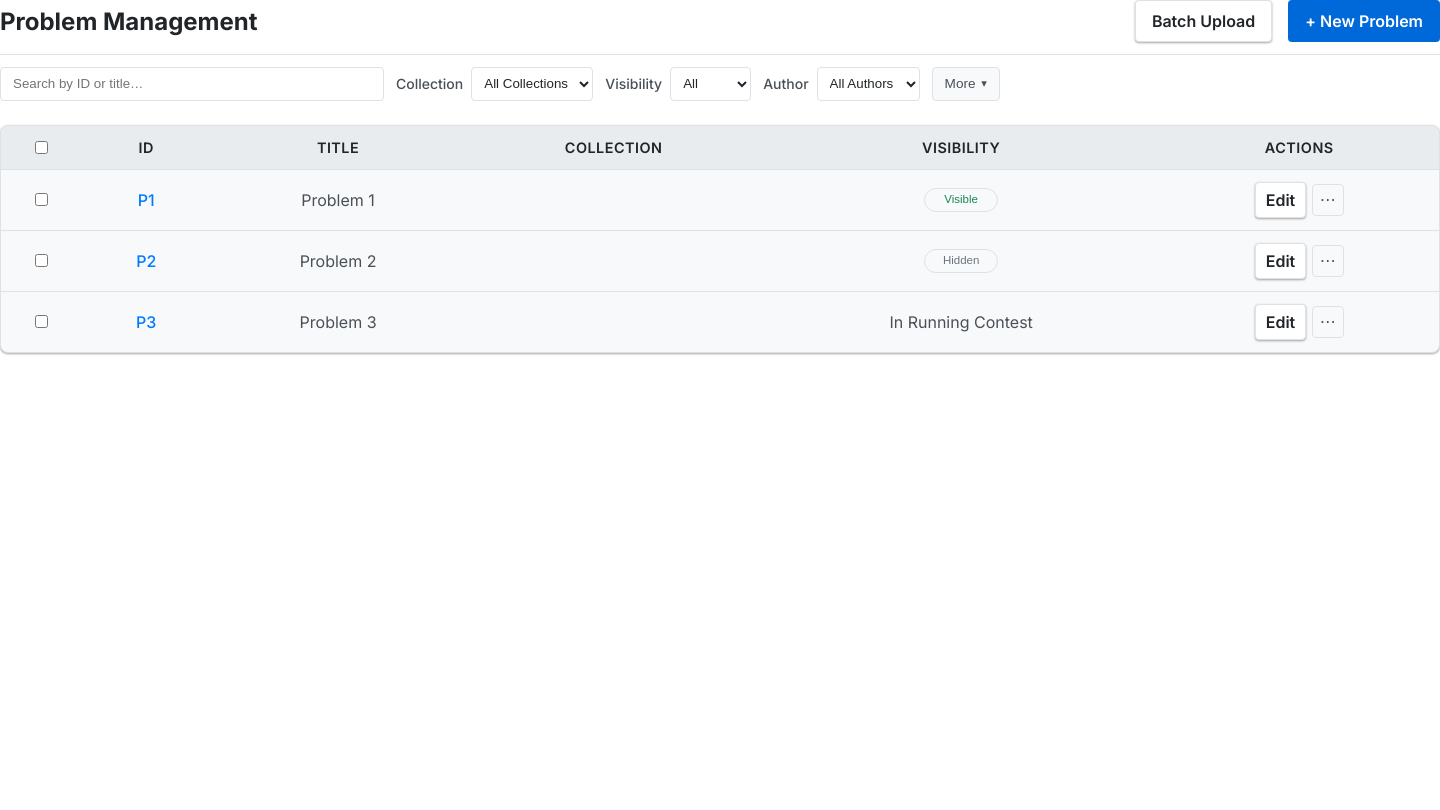
ProblemManagement Component › handles bulk actions (Hide All)
This screenshot has width=1440, height=810.
Expected: the text "Problem 1" is shown, [212,169,465,230]
Step 1. Click the checkbox named "Select problem P1" → x=42, y=199, box [35,193,48,206]
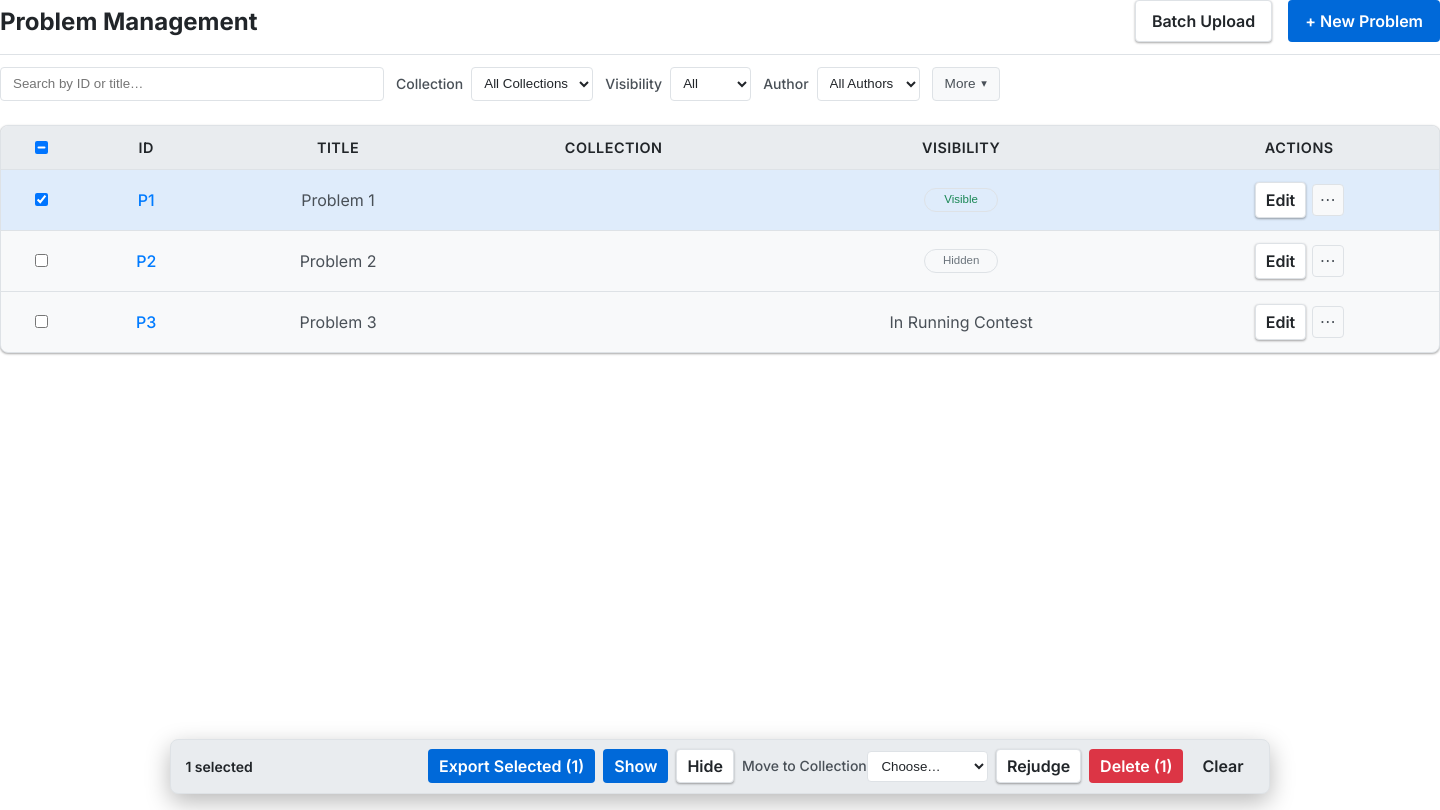
Expected: the text "1 selected" is shown, [185,758,253,775]
Note: Global visibility actions live behind the More menu now.
Step 2. Click the button with aria-label "more global actions" → x=966, y=84, box [932,67,1000,101]
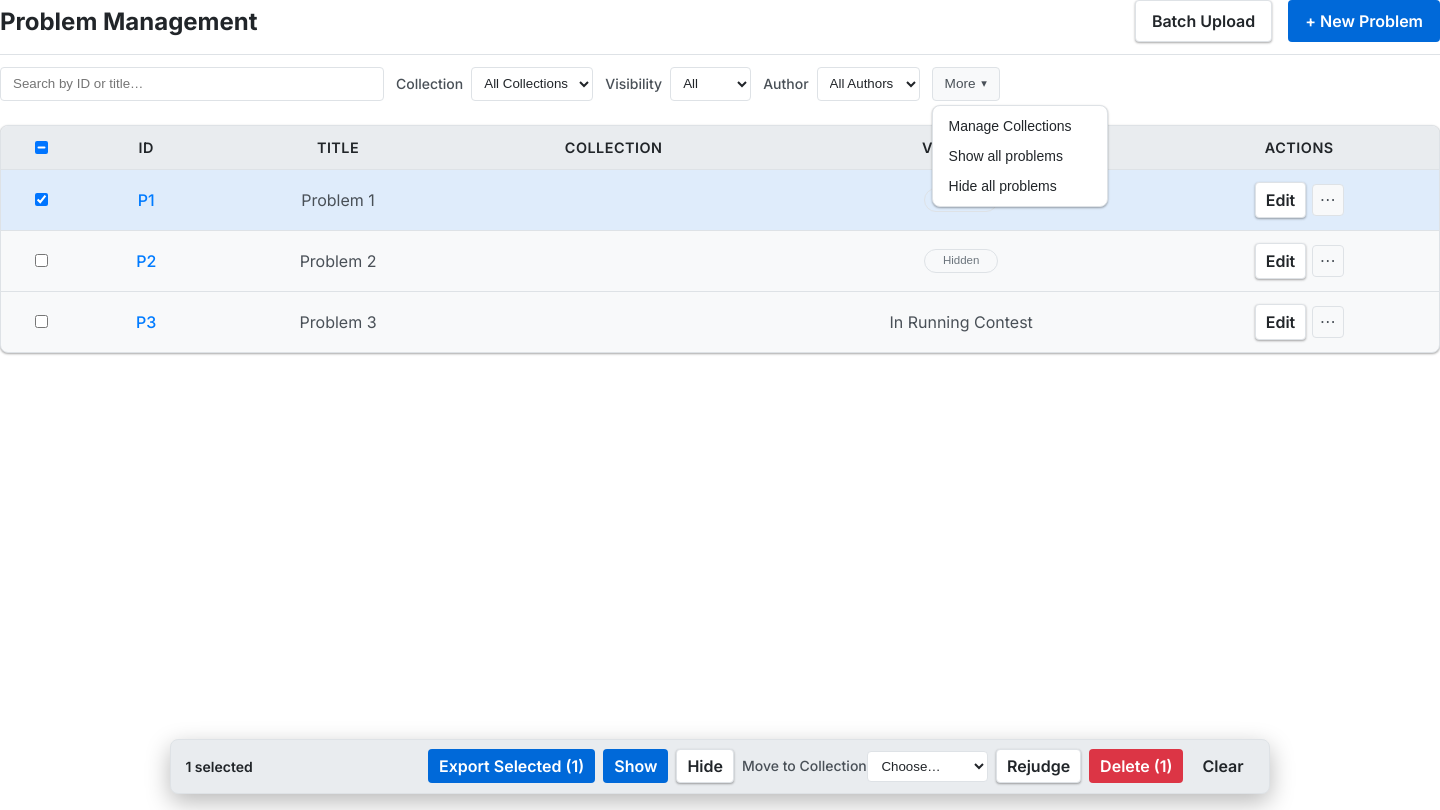
Step 3. Click the menu item "Hide all problems" → x=1020, y=186, box [937,171,1102,202]
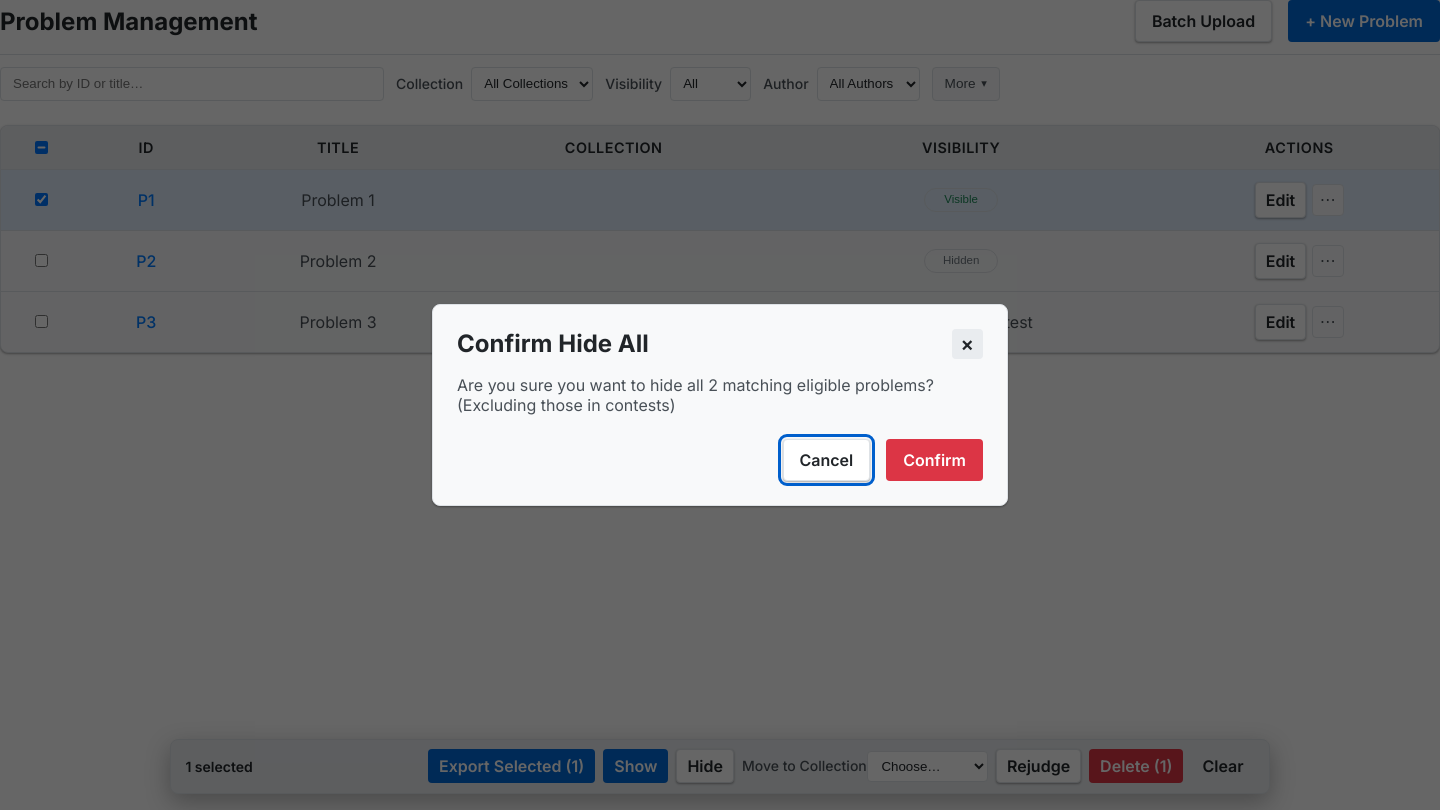
Expected: the text "hide all 2 matching eligible problems" is shown, [457,375,934,415]
Step 4. Click the button "Confirm" → x=935, y=460, box [886,439,983,481]
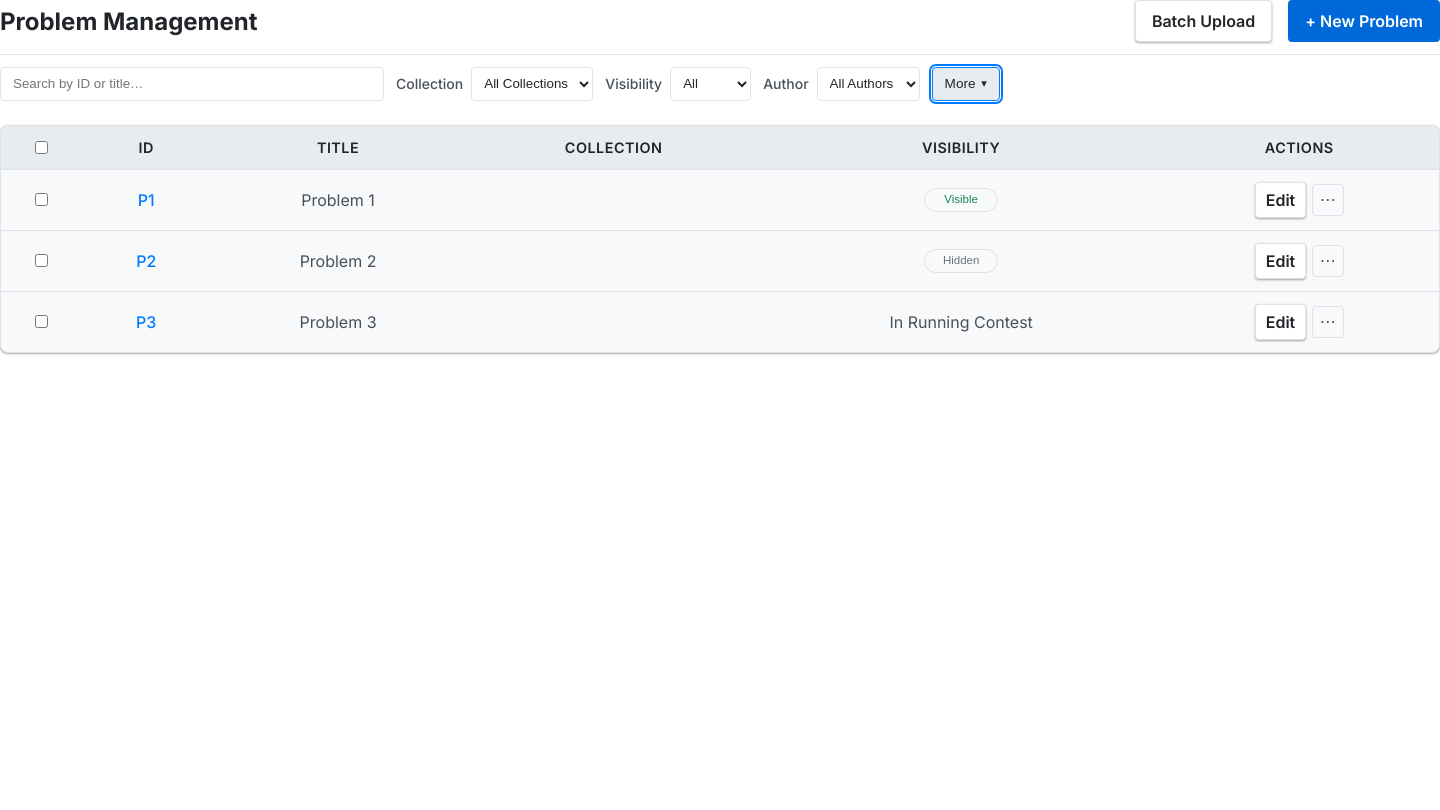
Expected: the text "Problem 1" is shown, [212,169,465,230]
Expected: the text "1 selected" is gone
